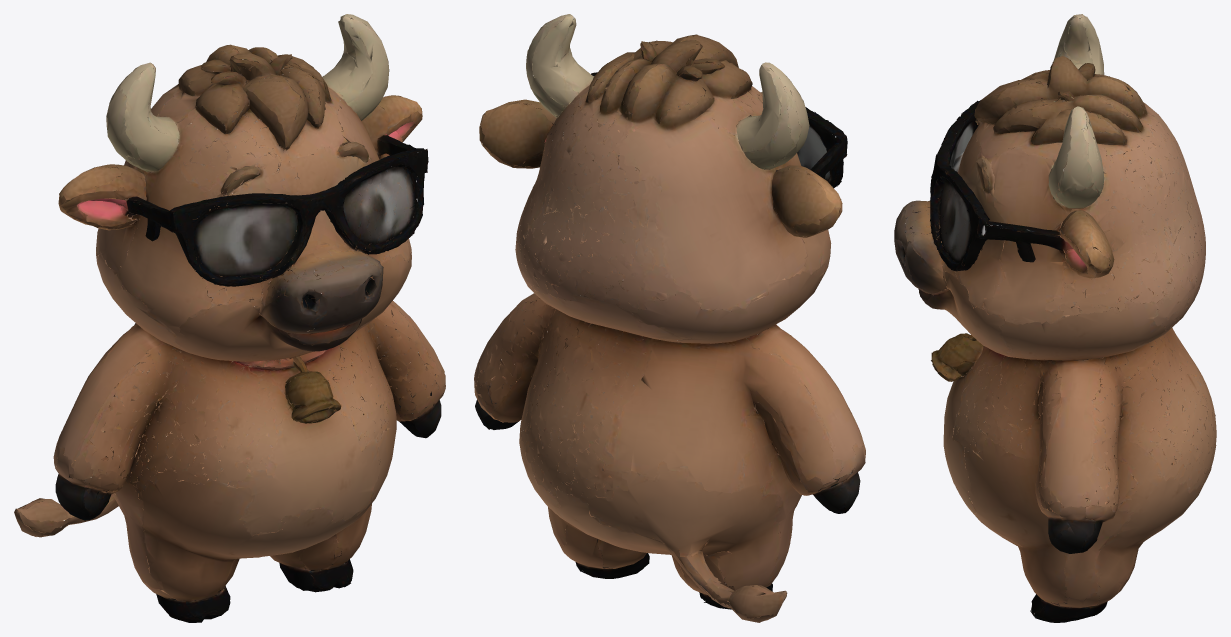
The model's file is niulai.glb.
3 views of the same model, side by side, from view 1: azimuth 30°, elevation 25°; view 2: azimuth 150°, elevation 25°; view 3: azimuth 270°, elevation 25° (orthographic). The views are drawn at different scales.
Visible parts, largest first — view 1: world; view 2: world; view 3: world.
Part boxes in pixels (bbox=[...]): world: bbox=[14, 14, 445, 622]; world: bbox=[474, 14, 865, 622]; world: bbox=[894, 14, 1216, 622].
Size of the model in its own units: 0.1086 by 0.15 by 0.0841.
1 material, 1 textured.
